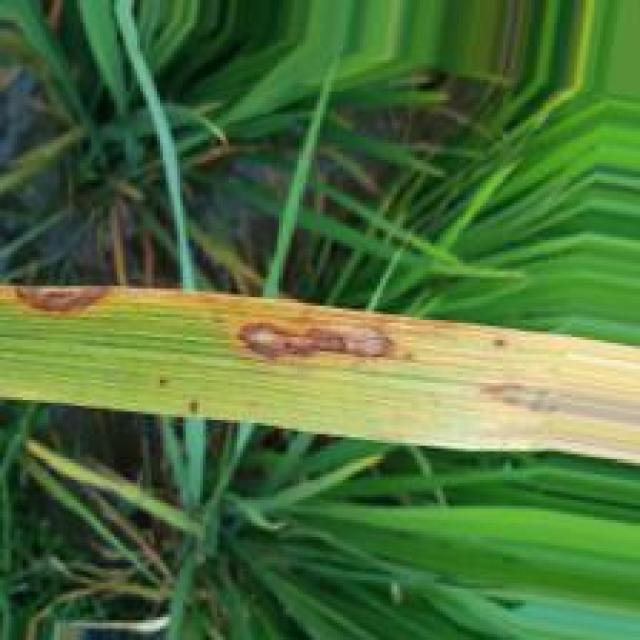Rice Tungro: (222, 314, 401, 368), (471, 381, 640, 426), (7, 285, 115, 318)
